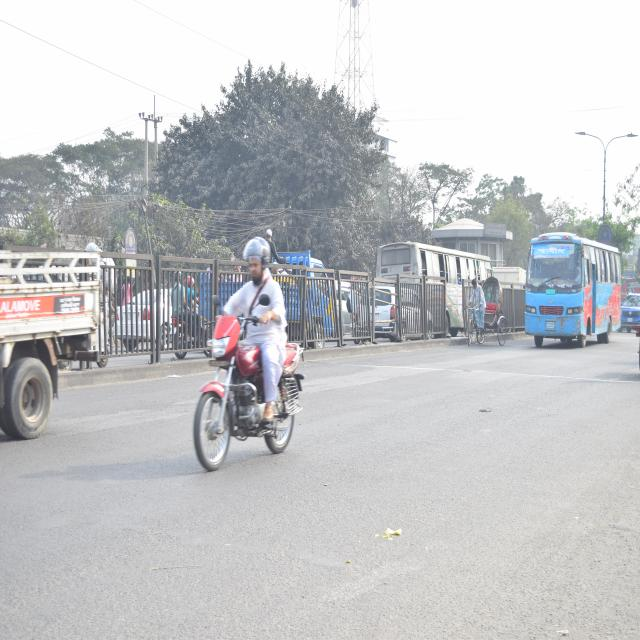bus: (520, 225, 622, 354)
car: (620, 287, 640, 340)
motorbike: (185, 292, 308, 478)
pickup-van: (0, 223, 106, 452)
